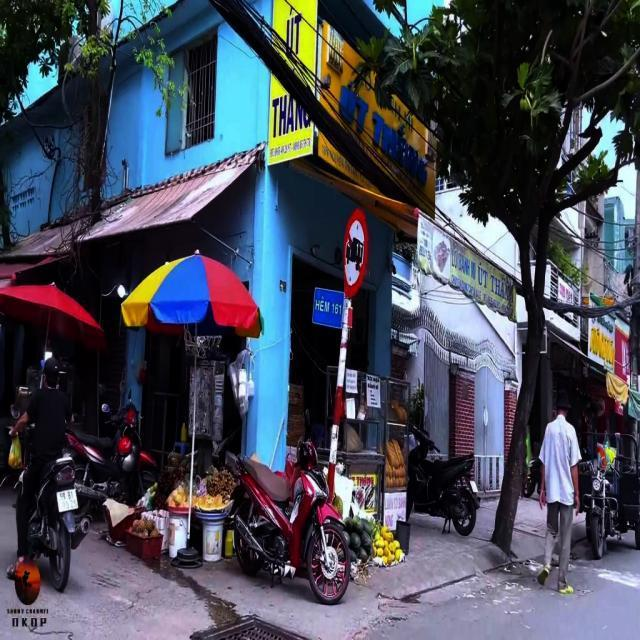106-cam-oto-tai: (344, 208, 372, 299)
